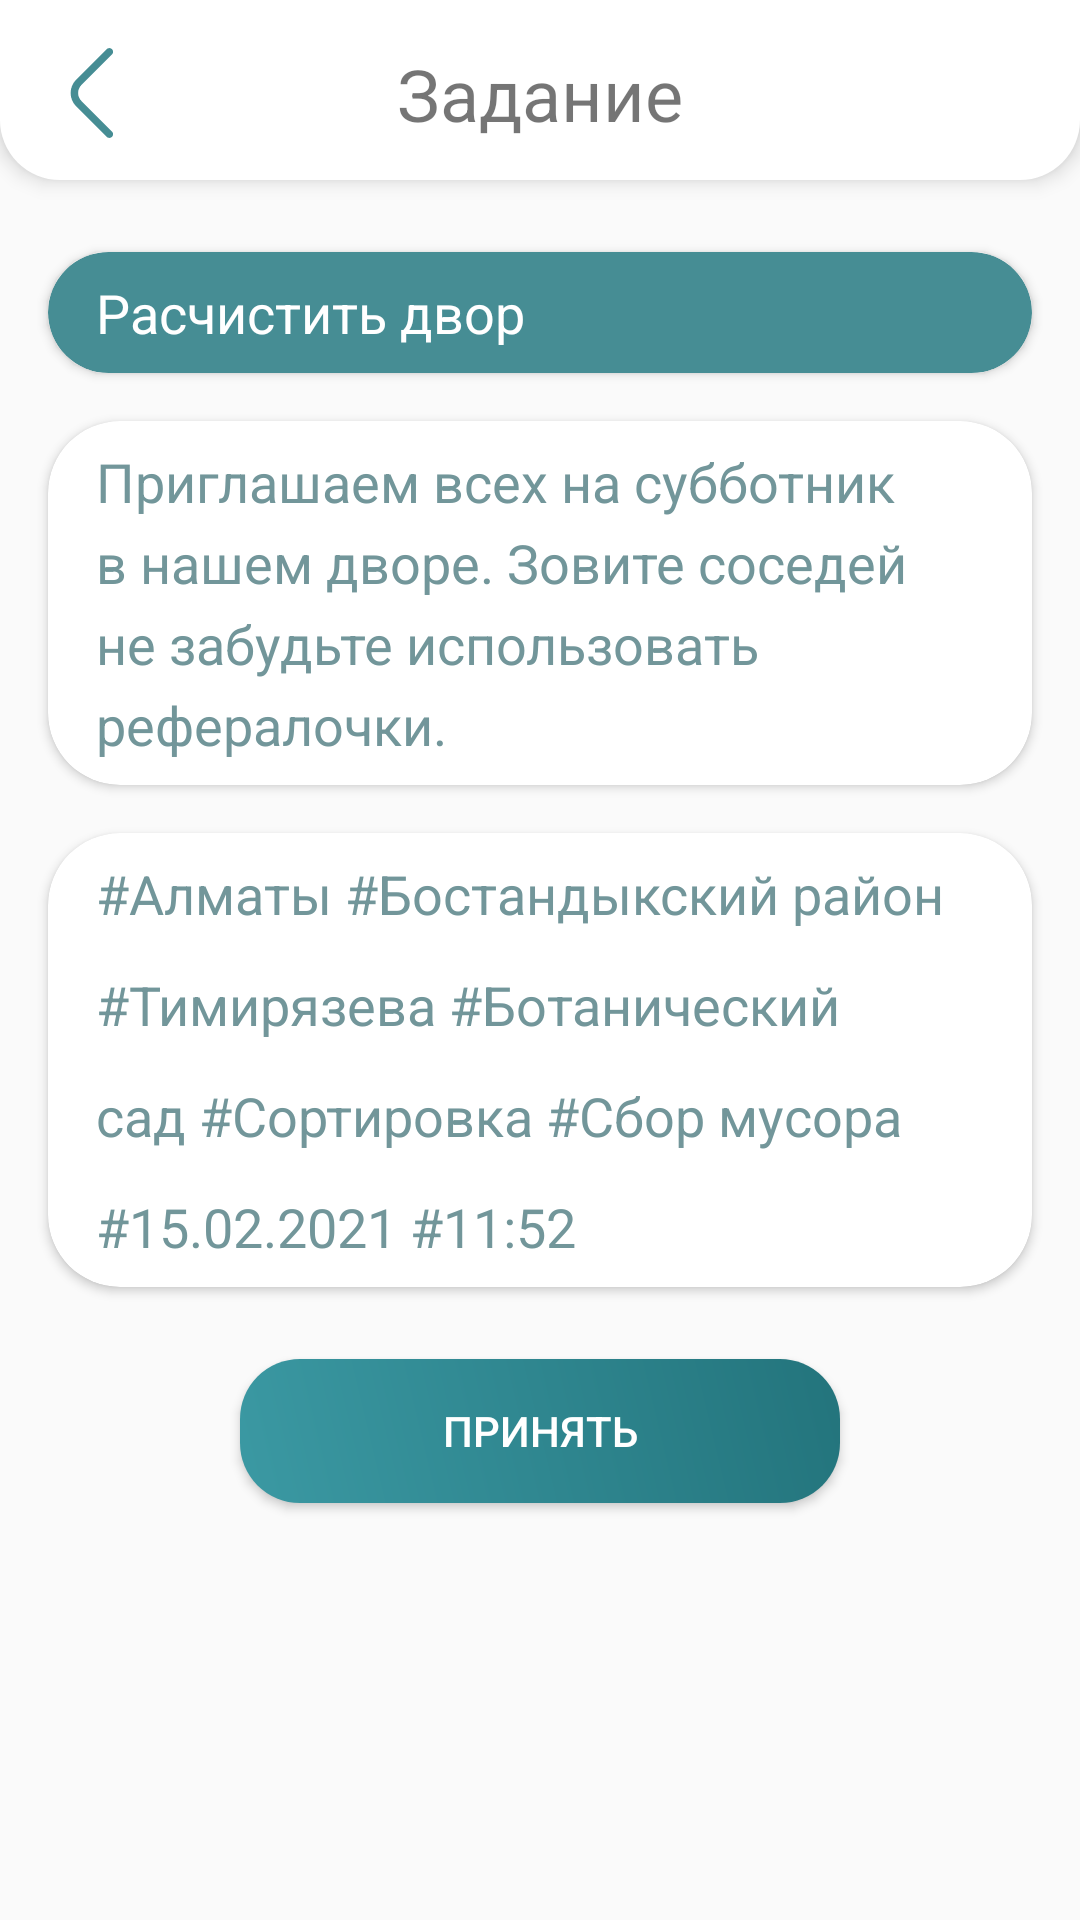

Point at icon controls on the screen. Image size 1080x1920, points as point (x, y).
angle left: point (91, 93)
